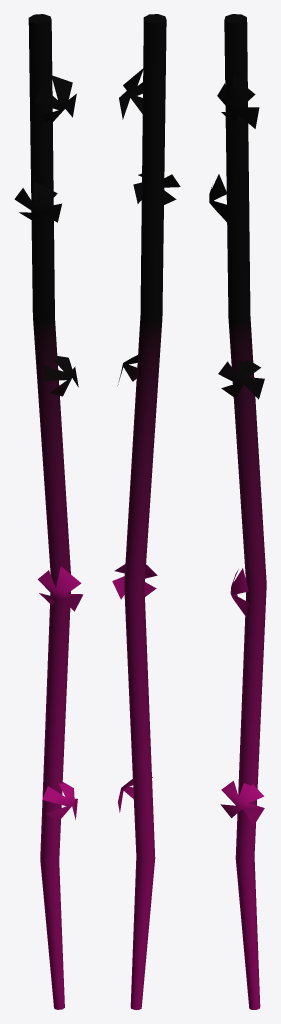
The model's file is vine-02_B.fbx.
The picture shows the model from 3 angles, left to right: view 1: azimuth 30°, elevation 25°; view 2: azimuth 210°, elevation 25°; view 3: azimuth 330°, elevation 25°; orthographic projection.
Parts seen in each view (by area): view 1: vine-02; view 2: vine-02; view 3: vine-02.
Part boxes in pixels (<box>): vine-02: <box>14,14,83,1009</box>; vine-02: <box>112,14,180,1009</box>; vine-02: <box>209,14,266,1009</box>.
Size of the model in its own units: 23.57 by 384 by 14.59.
